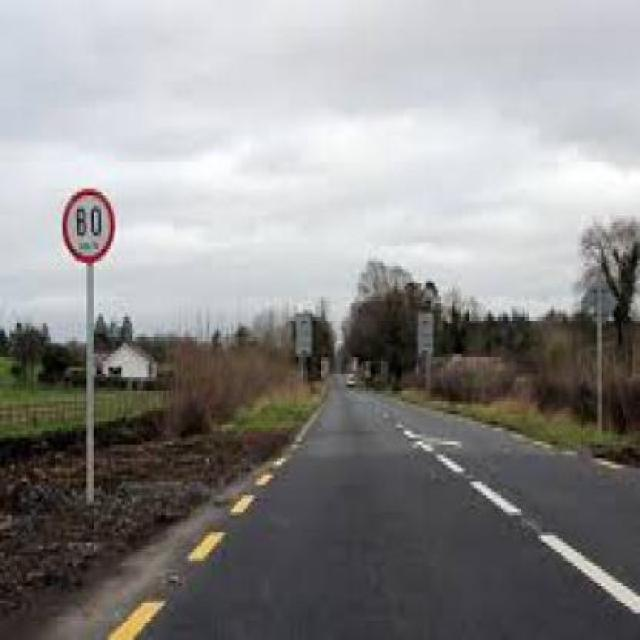forb_speed_over_80: (64, 188, 115, 261)
